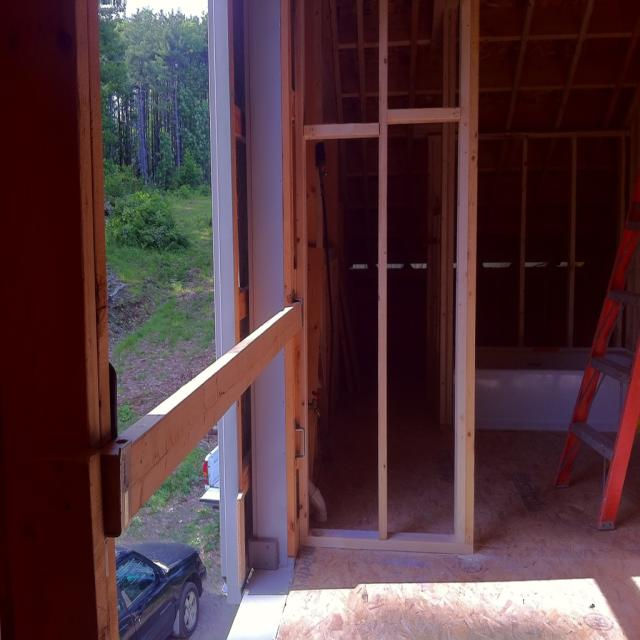car: (108, 505, 211, 634)
